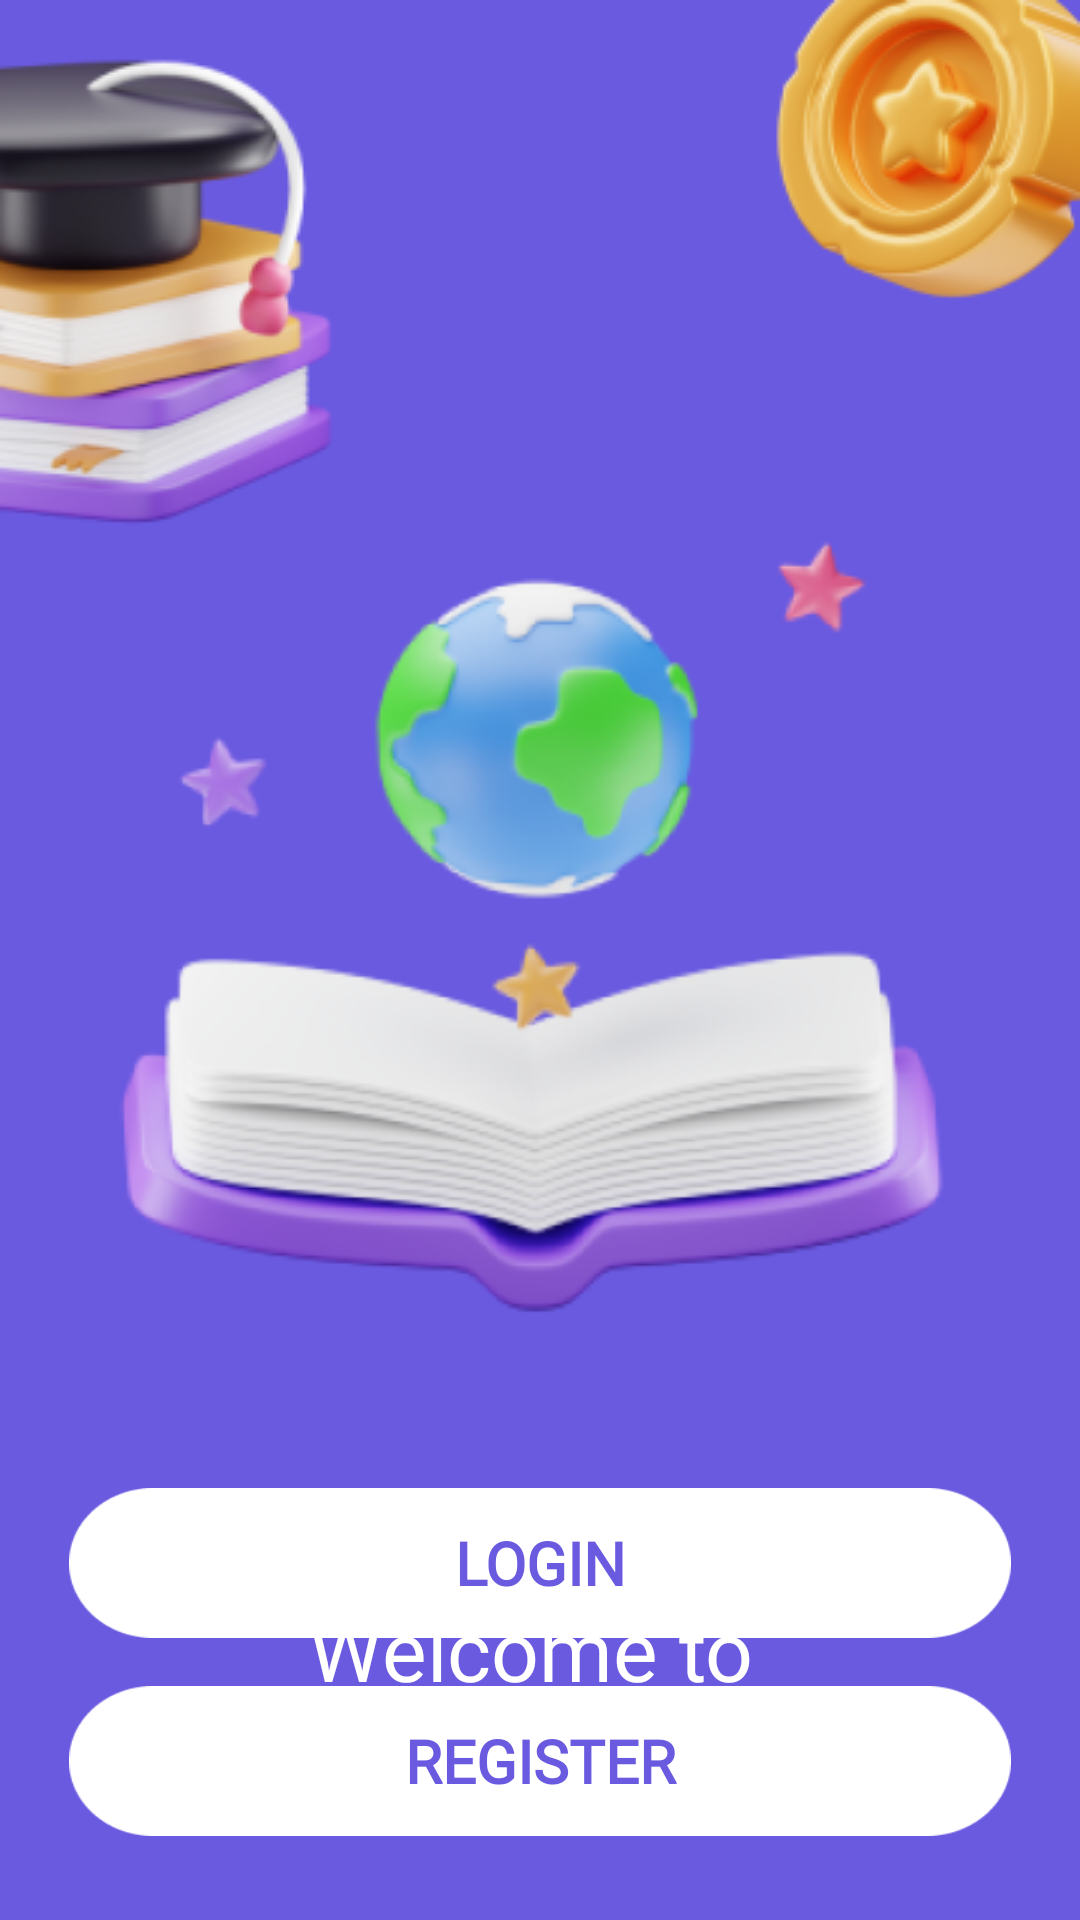

Where icons sit on this 1080w x 1920h app screen, as (x1, y1, x2, y2):
coin: (776, 0, 1080, 298)
